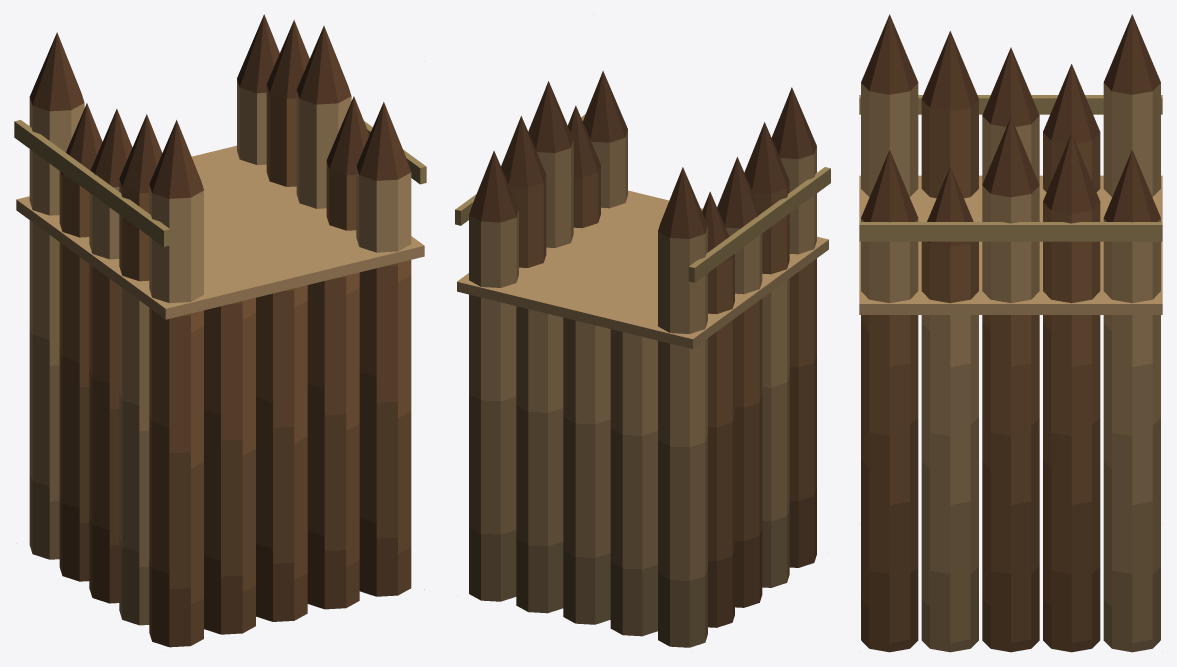
Rendered from perimeter_wall_wood_f5.glb.
3 views of the same model, side by side, from view 1: azimuth 30°, elevation 25°; view 2: azimuth 150°, elevation 25°; view 3: azimuth 270°, elevation 25° (orthographic). The views are drawn at different scales.
Size of the model in its own units: 2.03 by 3.9 by 2.
Materials: 1 (1 with a texture image).
